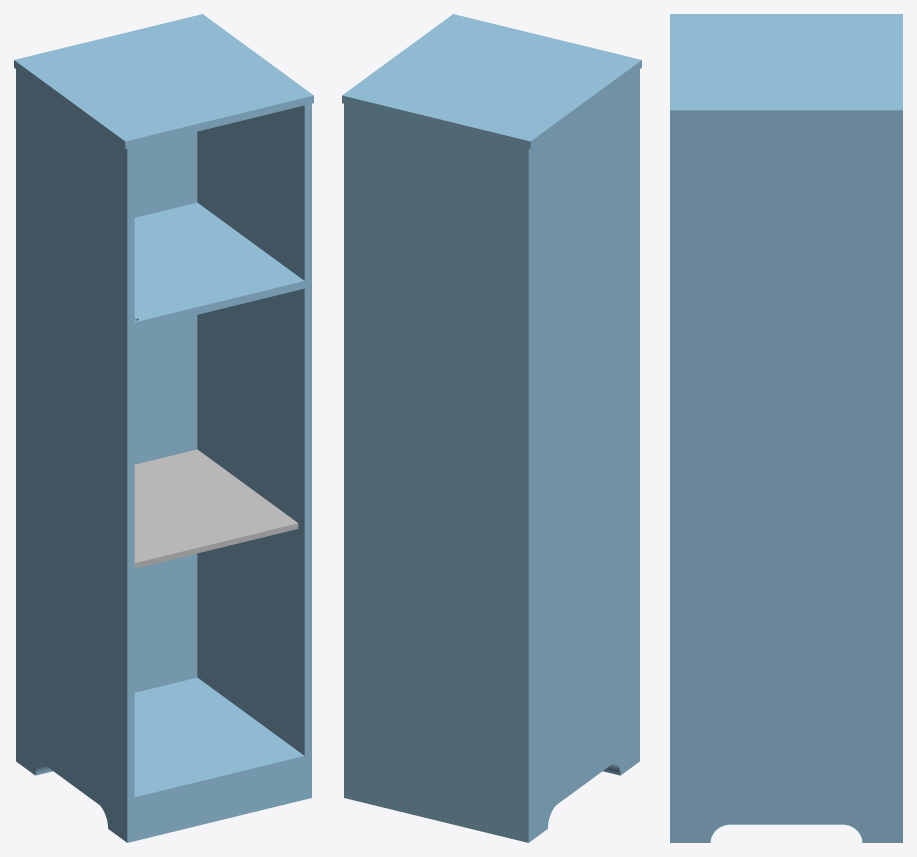
The model's file is fridge_body.dae.
The picture shows the model from 3 angles, left to right: view 1: azimuth 30°, elevation 25°; view 2: azimuth 150°, elevation 25°; view 3: azimuth 270°, elevation 25°; orthographic projection. The views are drawn at different scales.
Visible parts, largest first — view 1: node0, node1; view 2: node0; view 3: node0.
Boxes of the visible parts, x1=… form: node0: x1=14, y1=14, x2=313, y2=842; node1: x1=134, y1=449, x2=298, y2=568; node0: x1=342, y1=14, x2=641, y2=842; node0: x1=670, y1=14, x2=902, y2=842.
Bounding box in the file's own units: 0.2858 × 0.2921 × 1.02.
